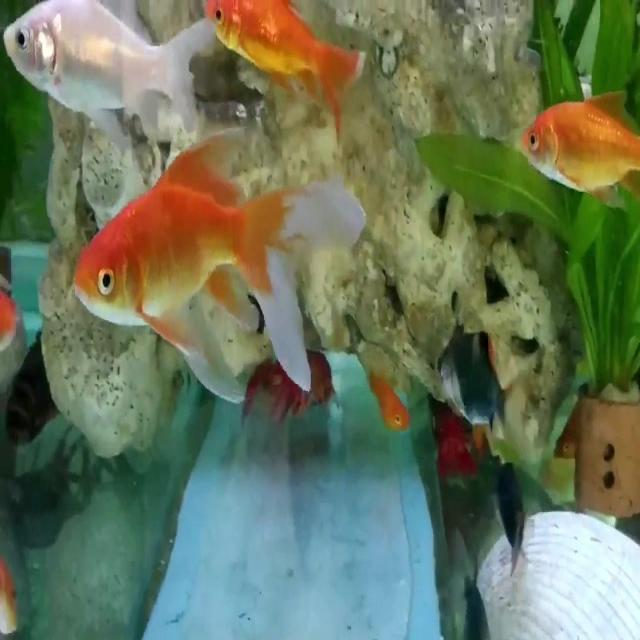GoldFish: (69, 116, 364, 418), (198, 0, 380, 163), (512, 76, 640, 226)
